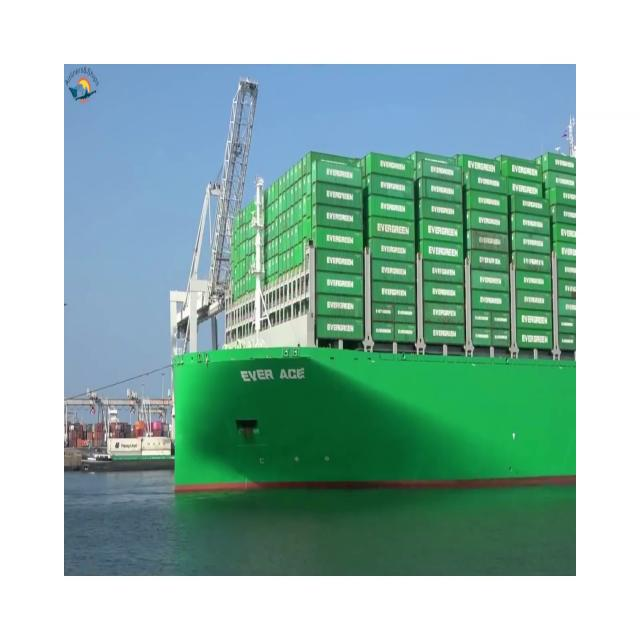OCR: (231, 354, 311, 393)
